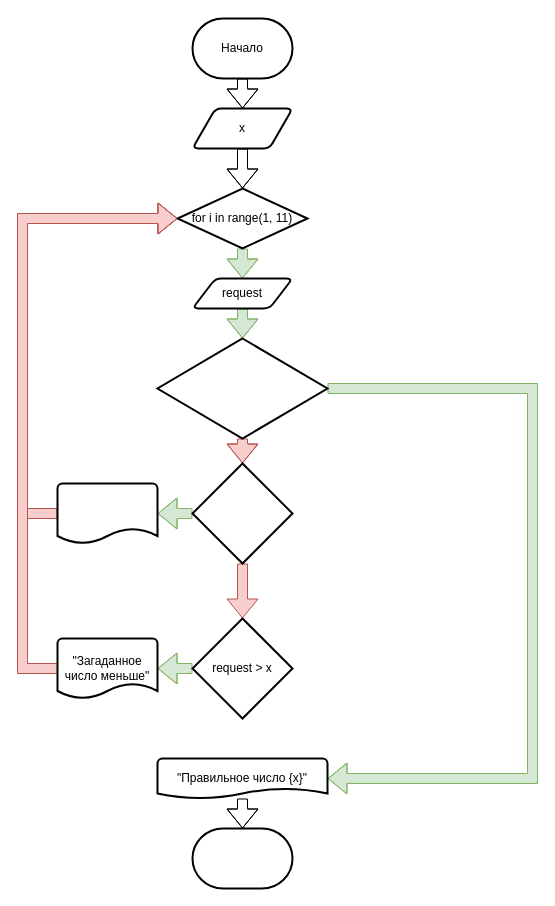
Some shapes in this 555 by 906 pixel diagram are drawn without their labels. The centre of each missing label's shape, as x and y in pixels:
"Загаданное число больше": point (107, 513)
request < x: point (242, 513)
request == x or i == 10: point (242, 388)
Конец: point (242, 858)
